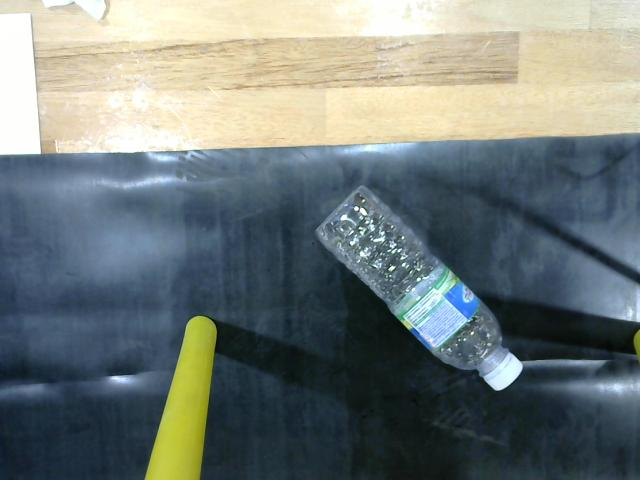bottle: (312, 176, 533, 396)
